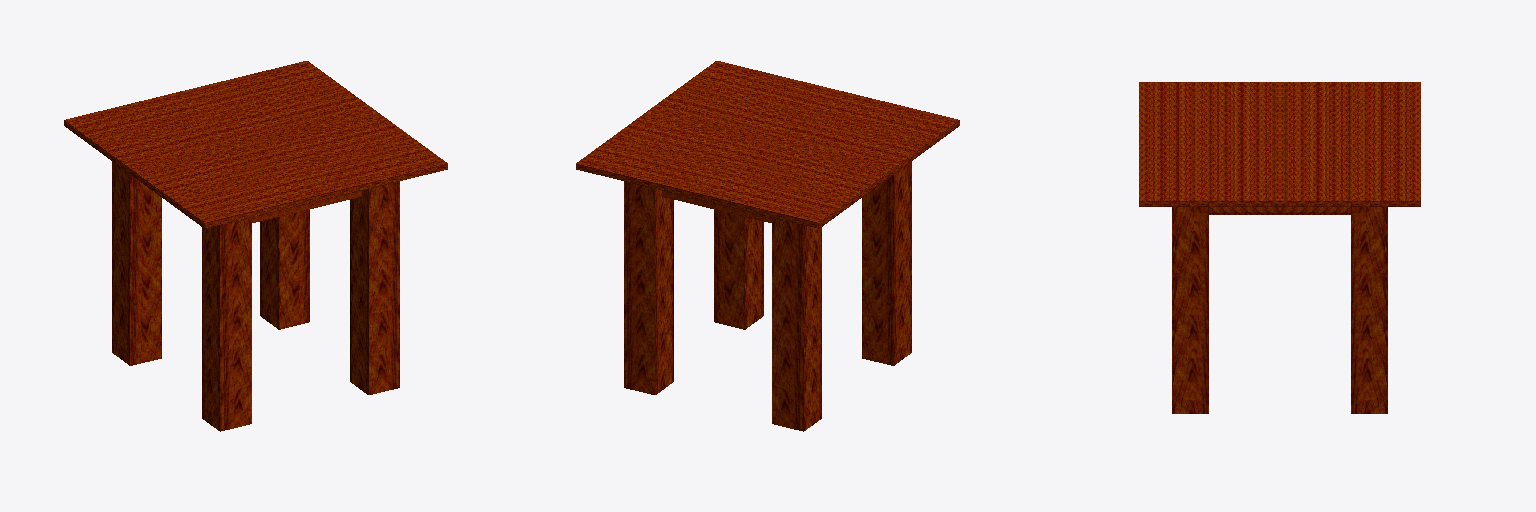
3 renders of one model, left to right at view 1: azimuth 30°, elevation 25°; view 2: azimuth 150°, elevation 25°; view 3: azimuth 270°, elevation 25°, orthographic.
Parts seen in each view (by area): view 1: polySurface2; view 2: polySurface2; view 3: polySurface2.
Boxes of the visible parts, x1,y1,x2,y2 form: polySurface2: [64, 61, 447, 431]; polySurface2: [576, 61, 959, 431]; polySurface2: [1139, 82, 1420, 413].
Size of the model in its own units: 10.08 by 9.04 by 10.1.
1 materials, 1 textured.